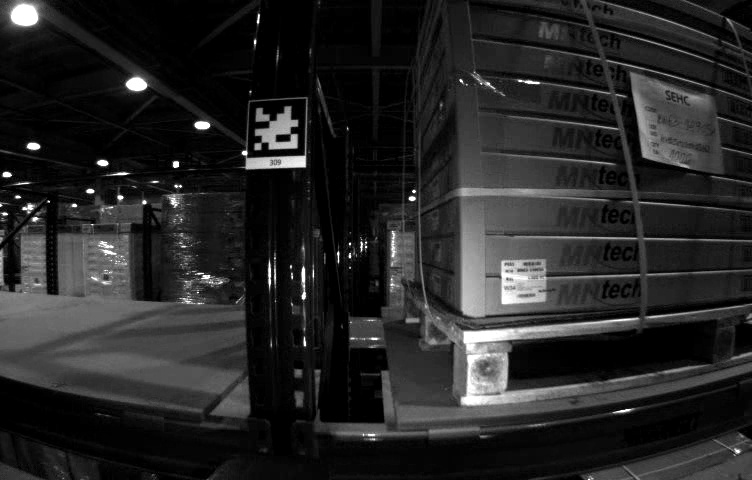True Barcode: (501, 260, 549, 304)
